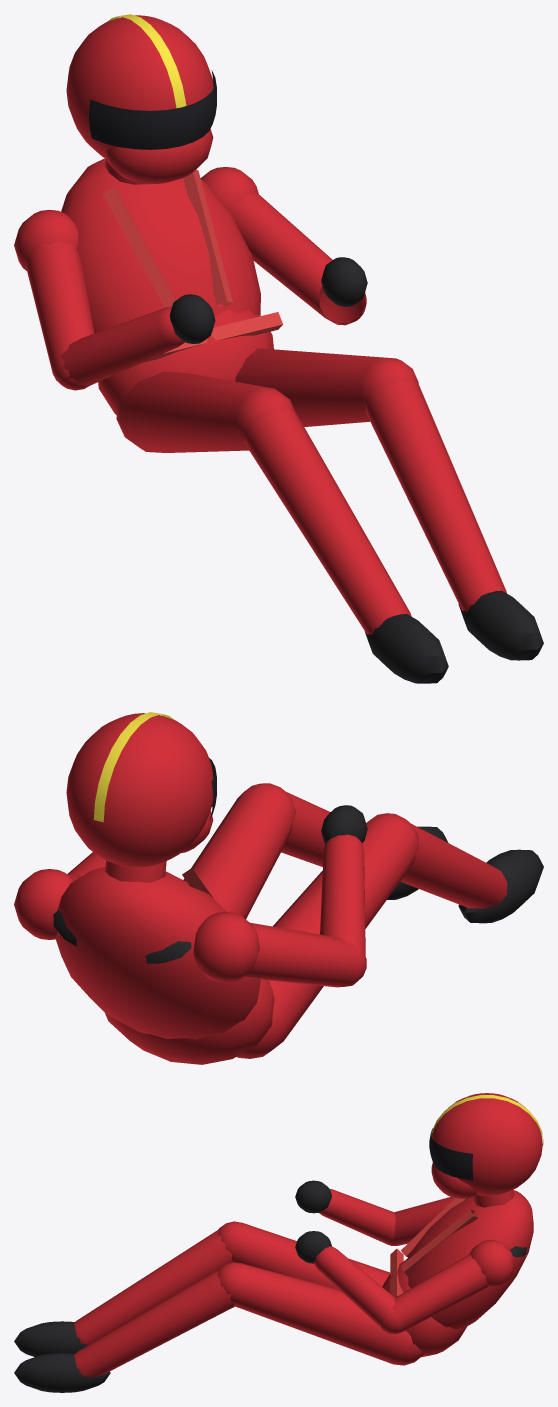
File: fugazzi_lmp2_driver.glb
The picture shows the model from 3 angles, top to bottom: view 1: azimuth 30°, elevation 25°; view 2: azimuth 150°, elevation 25°; view 3: azimuth 270°, elevation 25°; orthographic projection. The views are drawn at different scales.
Parts seen in each view (by area): view 1: fugazzi_lmp2_driver; view 2: fugazzi_lmp2_driver; view 3: fugazzi_lmp2_driver.
Part boxes in pixels (x1,y1,x2,y2): fugazzi_lmp2_driver: (14, 14, 543, 683); fugazzi_lmp2_driver: (14, 712, 543, 1064); fugazzi_lmp2_driver: (14, 1093, 543, 1392).
Bounding box in the file's own units: 0.65 × 0.827 × 1.42.
